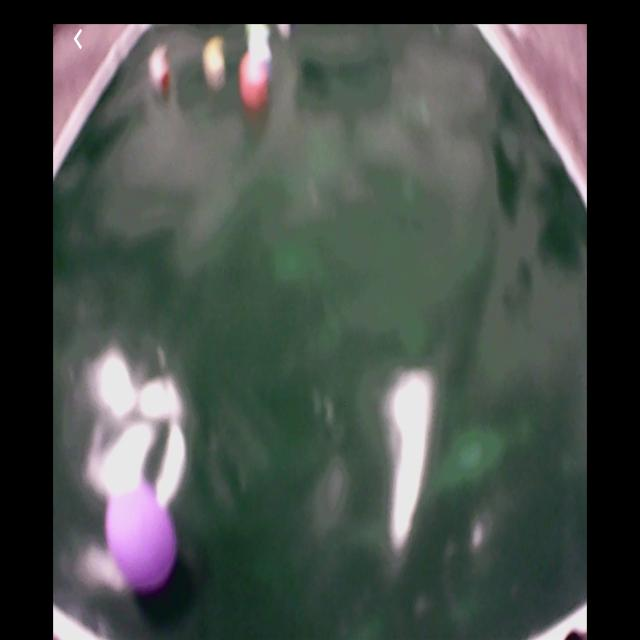ball: (107, 482, 179, 593)
